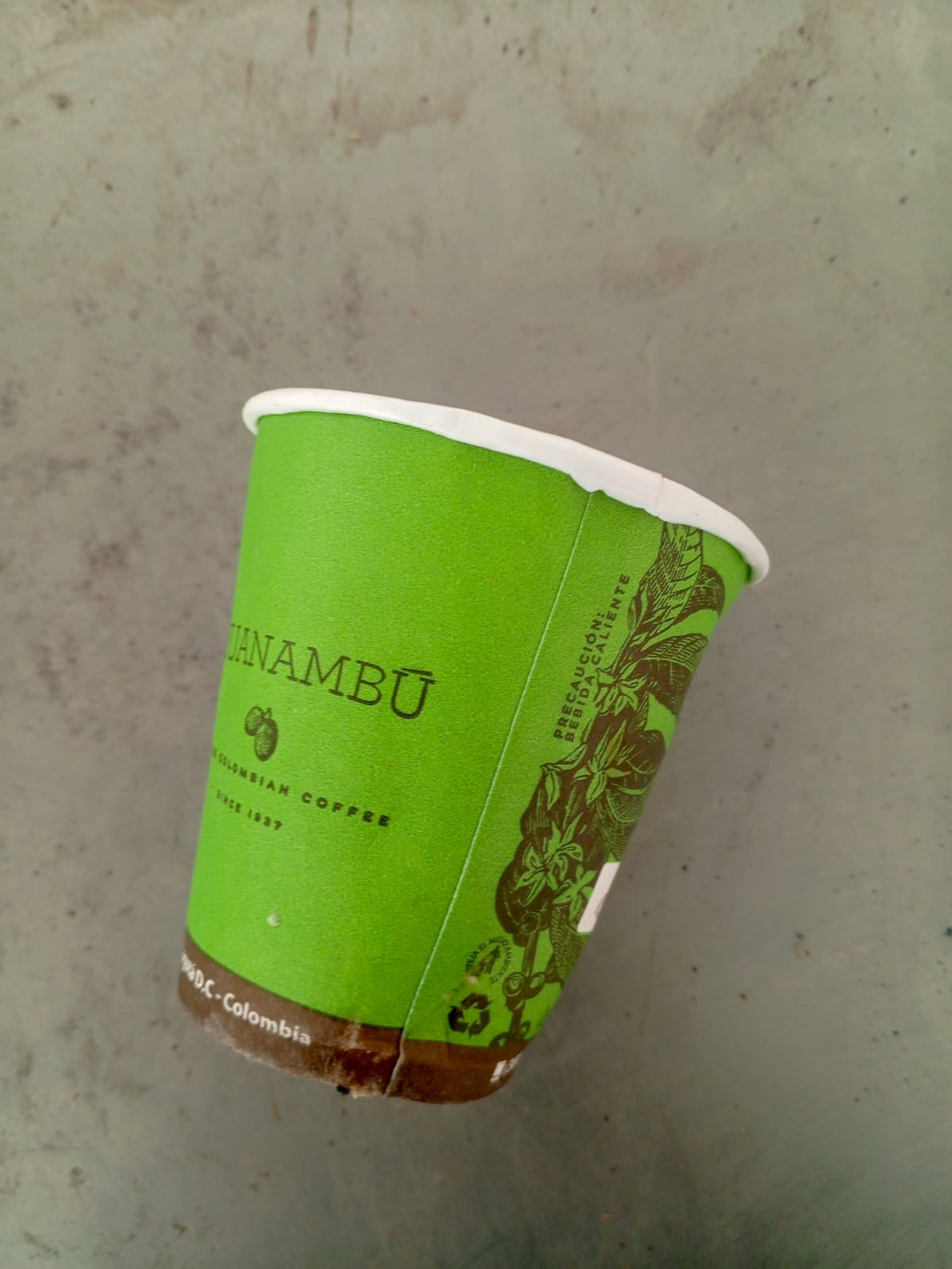Carton: (179, 388, 774, 1101)
